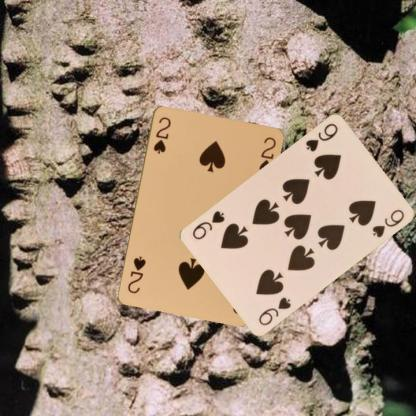2s: (150, 114, 172, 155)
9s: (303, 120, 339, 153), (256, 294, 292, 327)
